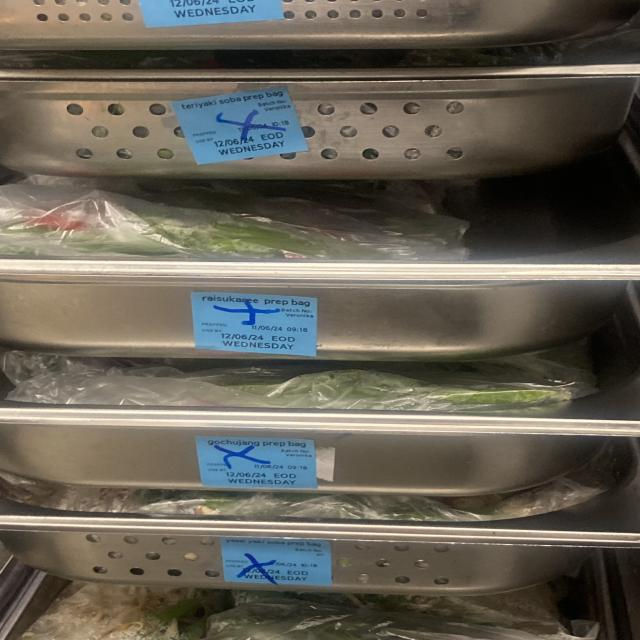product-labels: (171, 83, 311, 169), (192, 292, 321, 357), (199, 436, 320, 490), (219, 534, 335, 589)
